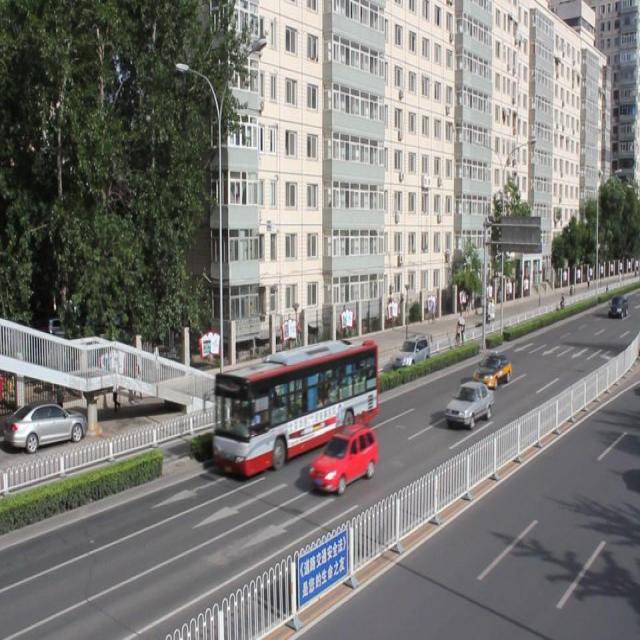car: (308, 423, 377, 491), (444, 380, 492, 426), (471, 348, 510, 387), (393, 334, 429, 369)
van: (214, 338, 376, 476)
